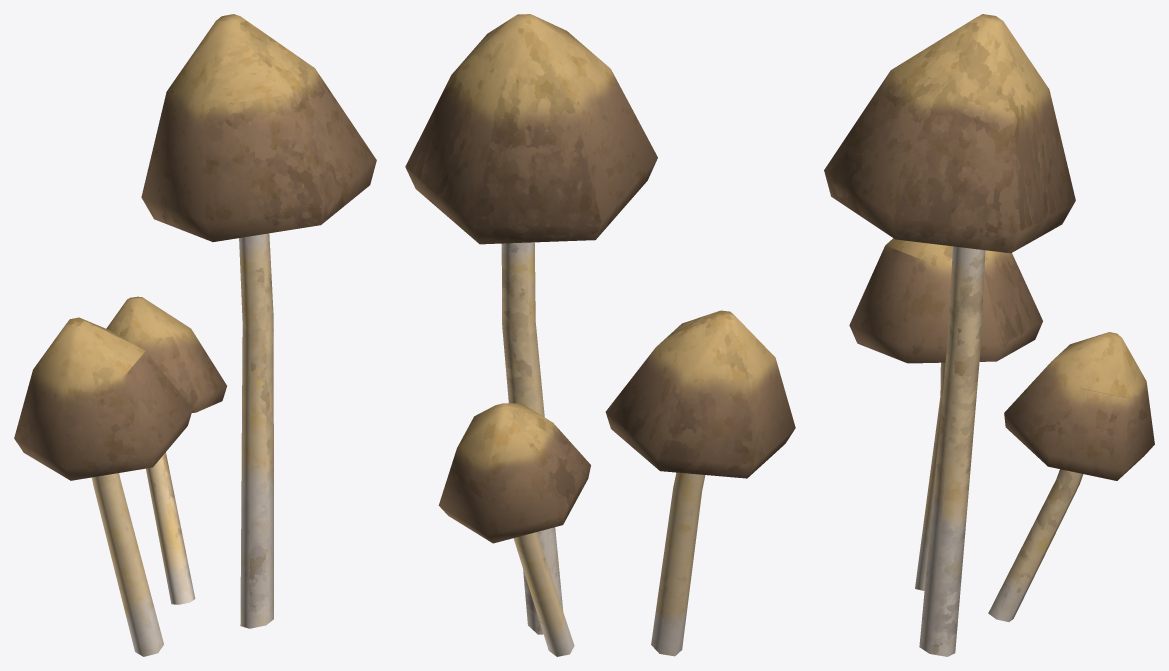
File: art_3D model_environment_coprinellus.fbx
3 views of the same model, side by side, from view 1: azimuth 30°, elevation 25°; view 2: azimuth 150°, elevation 25°; view 3: azimuth 270°, elevation 25° (orthographic). The views are drawn at different scales.
Visible parts, largest first — view 1: Cylinder; view 2: Cylinder; view 3: Cylinder.
Boxes of the visible parts, bbox=[...] form: Cylinder: bbox=[14, 14, 376, 656]; Cylinder: bbox=[405, 14, 795, 656]; Cylinder: bbox=[824, 14, 1154, 656].
Bounding box in the file's own units: 10.49 × 18.63 × 8.8.
1 material, 1 textured.
